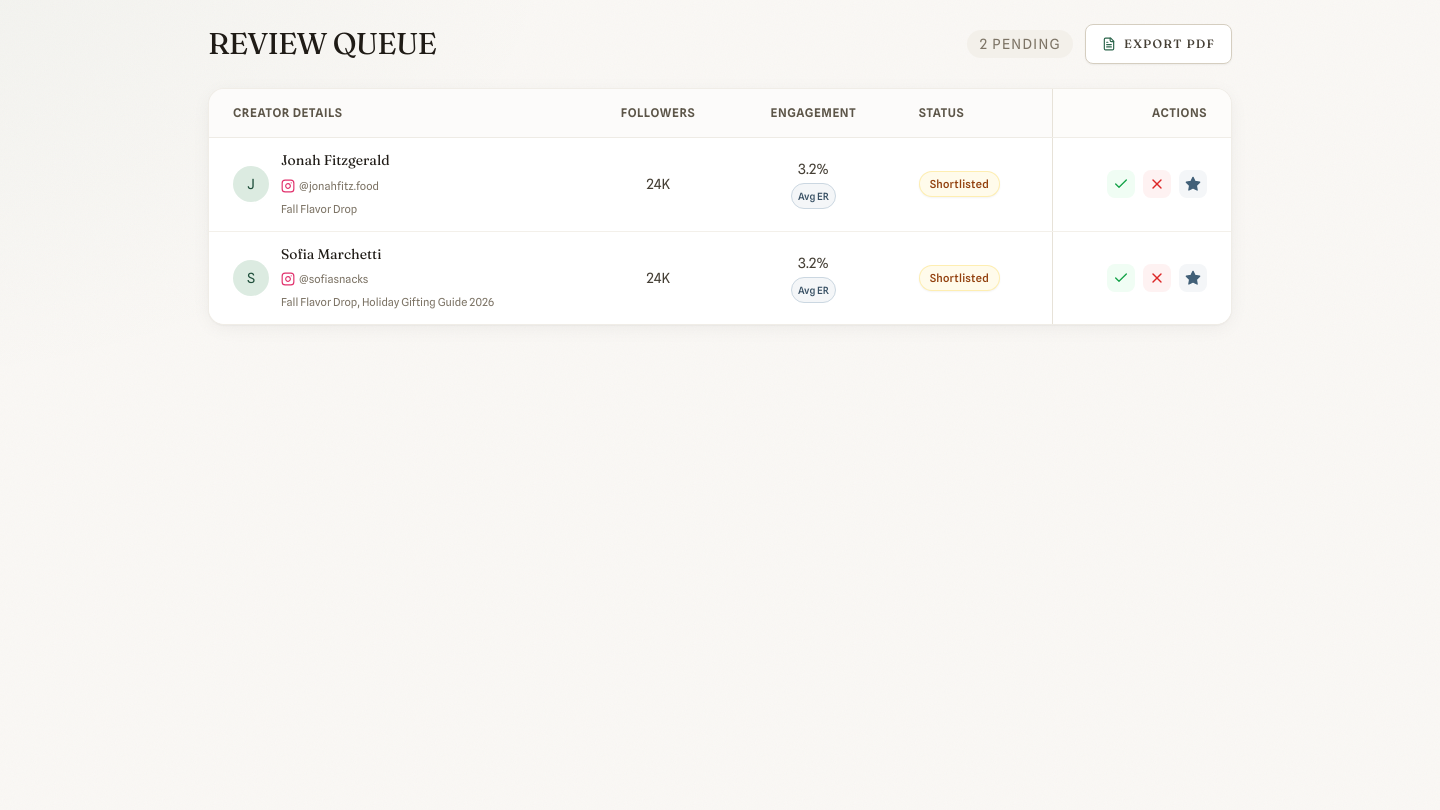
ReviewQueue › approves for the only campaign on the row and says who the email went to
Click the button titled "Approve & Send Outreach" in the row of "jonahfitz.food". click: (1121, 184)
box: [1107, 170, 1135, 198]
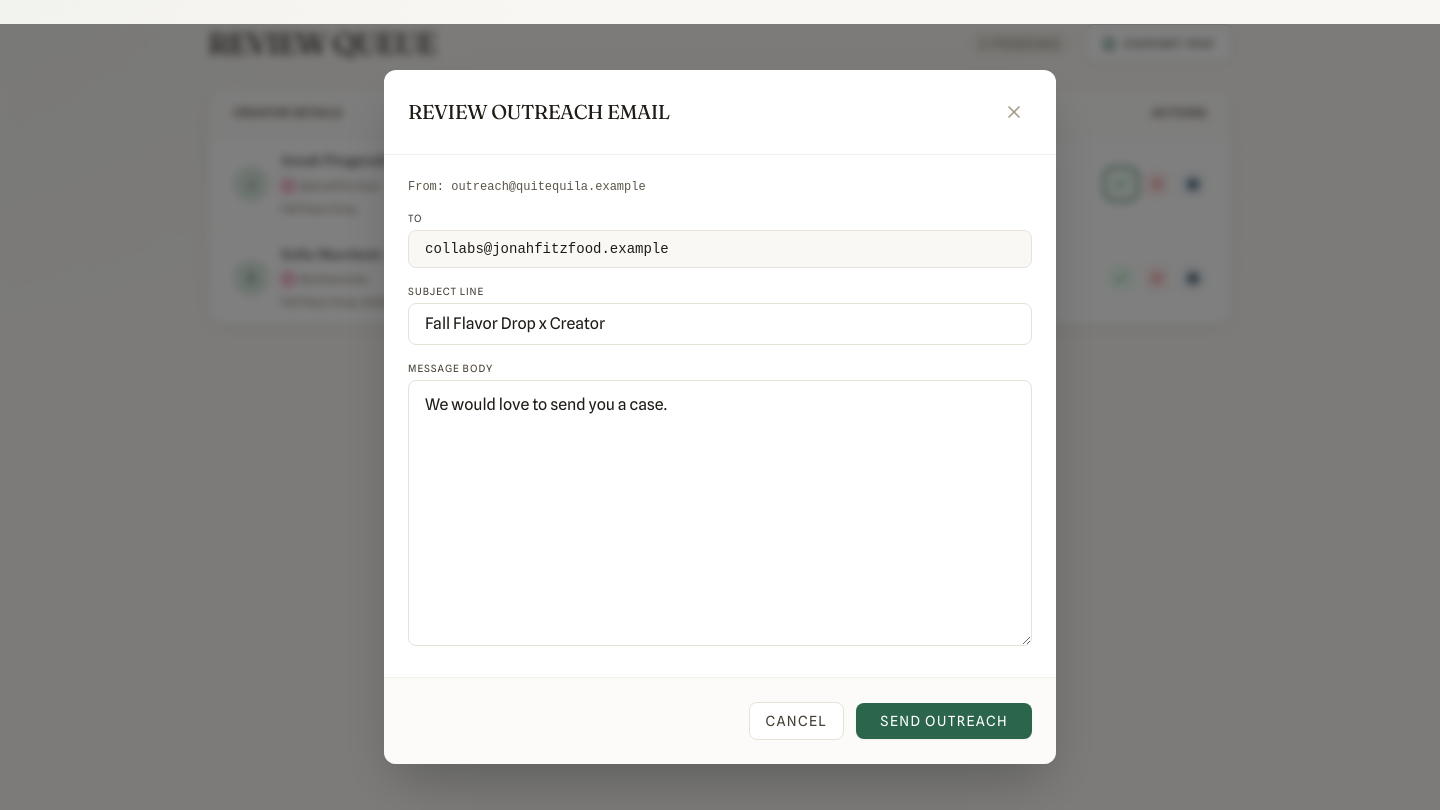
Now the text "From: outreach@quitequila.example" is shown, box [408, 180, 646, 194]
Click the button "Send Outreach". click: (944, 721)
box: [856, 703, 1032, 739]
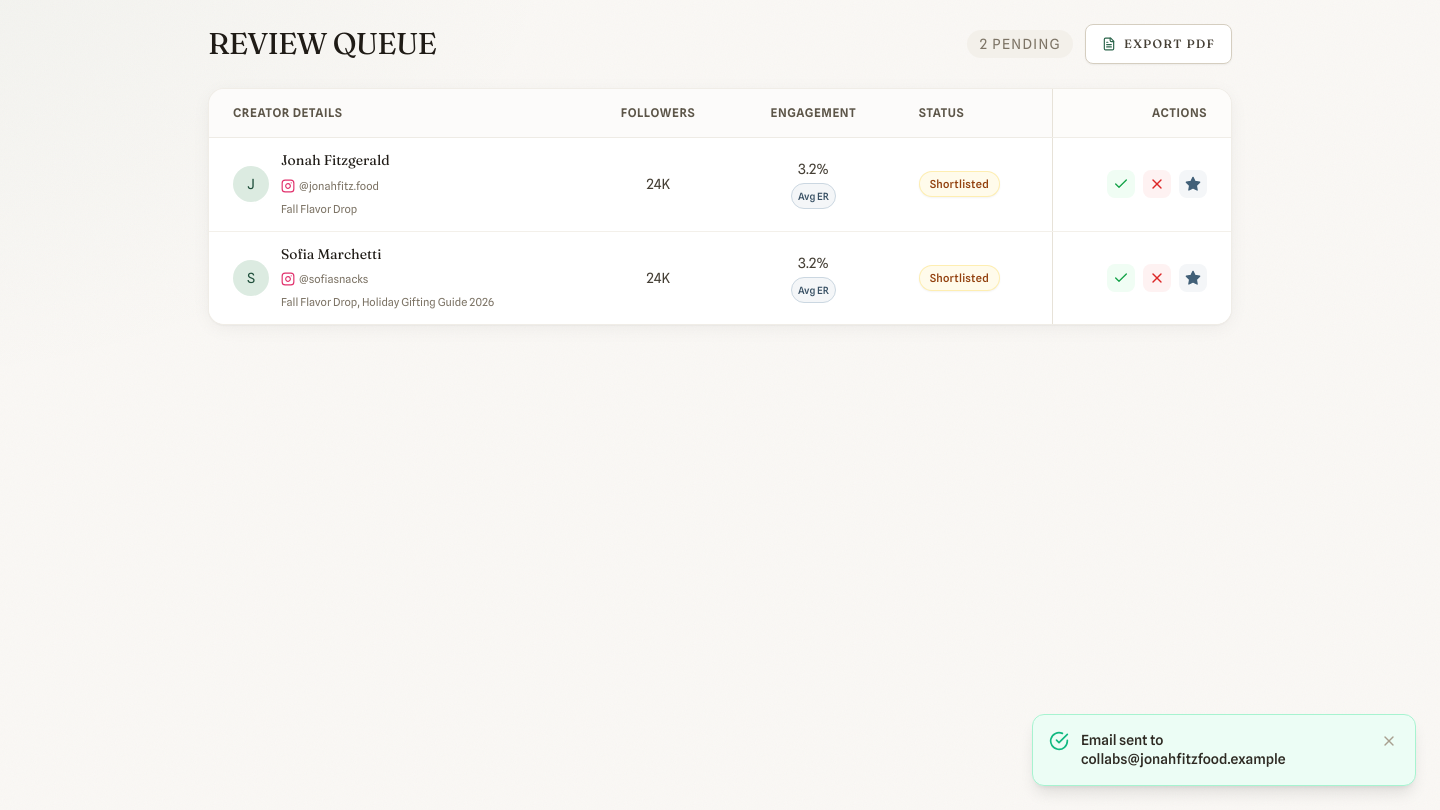
Now the text "Email sent to collabs@jonahfitzfood.example" is shown, box [1081, 732, 1286, 767]
